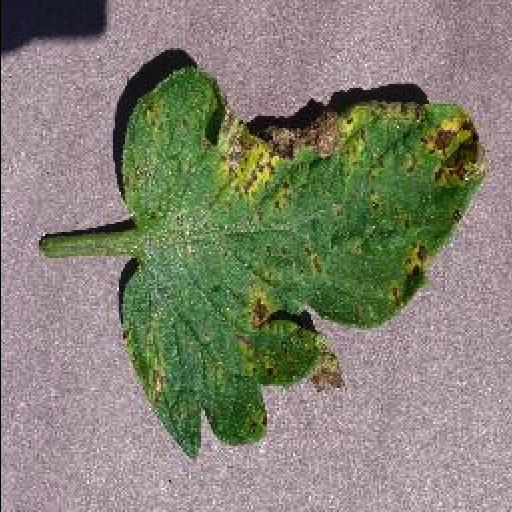disease_tomato: (114, 70, 488, 460)
